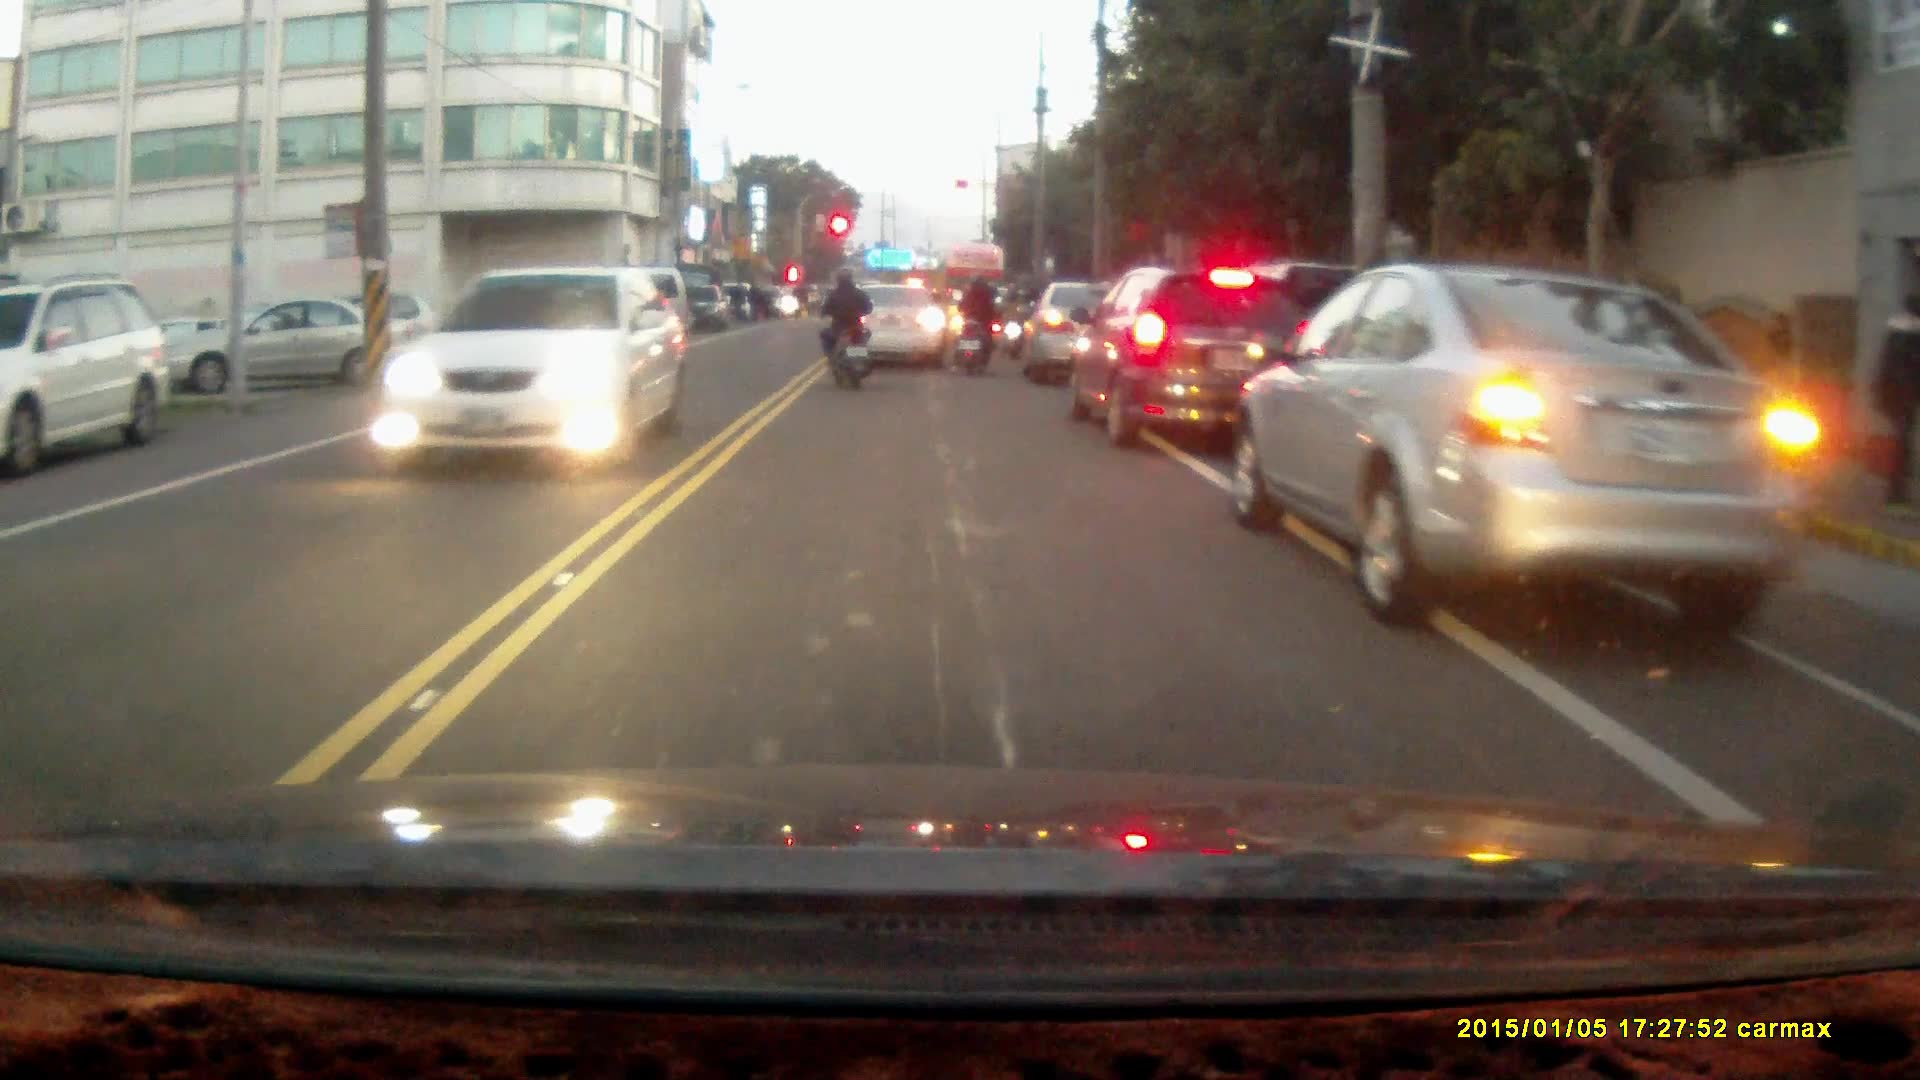pedestrian: (1871, 289, 1920, 520)
rider: (816, 268, 874, 391), (952, 272, 1005, 375)
vehicle: (1234, 262, 1832, 630), (372, 267, 680, 472), (1067, 268, 1323, 455), (1, 278, 174, 470), (166, 297, 416, 396), (1018, 278, 1145, 394), (835, 286, 947, 376)
